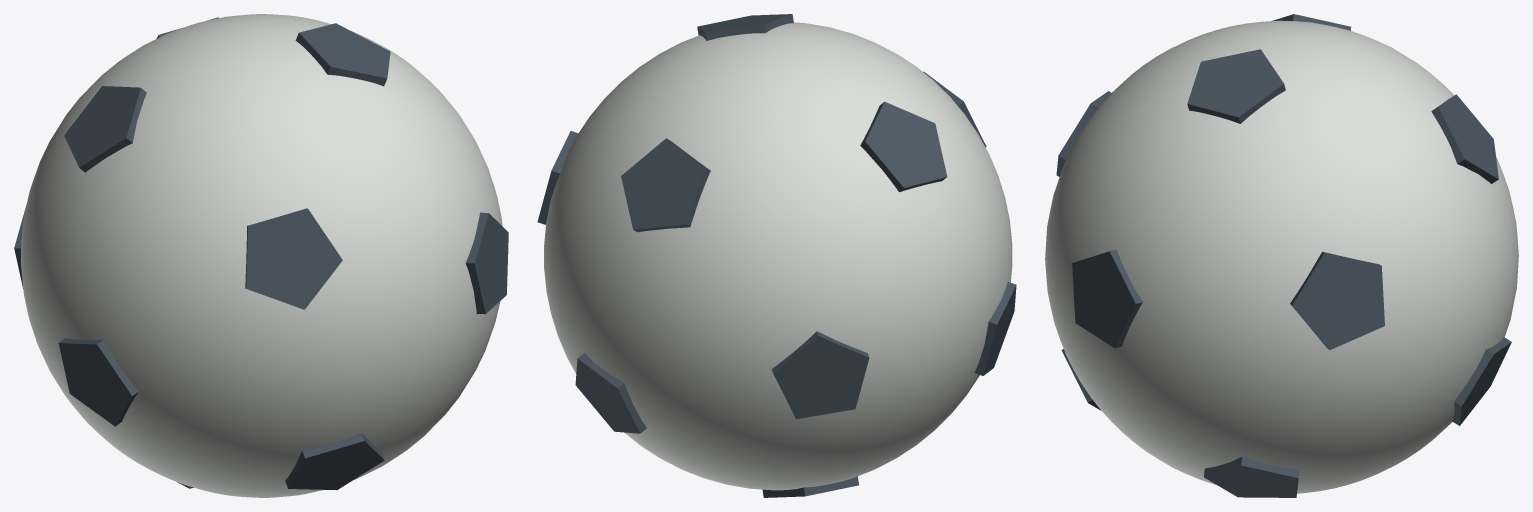
Rendered from ball.glb.
3 renders of one model, left to right at view 1: azimuth 30°, elevation 25°; view 2: azimuth 150°, elevation 25°; view 3: azimuth 270°, elevation 25°, orthographic. The views are drawn at different scales.
Parts seen in each view (by area): view 1: titan.ball.leather, titan.ball.panel.7, titan.ball.panel.8, titan.ball.panel.3, titan.ball.panel.11, titan.ball.panel.2, titan.ball.panel.6; view 2: titan.ball.leather, titan.ball.panel.4, titan.ball.panel.9, titan.ball.panel.8, titan.ball.panel.5, titan.ball.panel.3, titan.ball.panel.11, titan.ball.panel.10, titan.ball.panel.0; view 3: titan.ball.leather, titan.ball.panel.10, titan.ball.panel.11, titan.ball.panel.6, titan.ball.panel.9, titan.ball.panel.1, titan.ball.panel.5, titan.ball.panel.7.
Boxes of the visible parts, x1,y1,x2,y2 form: titan.ball.leather: (21, 14, 502, 497); titan.ball.panel.7: (245, 208, 342, 309); titan.ball.panel.8: (64, 86, 146, 172); titan.ball.panel.3: (58, 338, 138, 426); titan.ball.panel.11: (295, 23, 390, 86); titan.ball.panel.2: (285, 432, 384, 489); titan.ball.panel.6: (465, 212, 508, 314); titan.ball.leather: (544, 22, 1012, 490); titan.ball.panel.4: (771, 331, 869, 419); titan.ball.panel.9: (621, 138, 710, 232); titan.ball.panel.8: (860, 101, 947, 192); titan.ball.panel.5: (575, 353, 646, 433); titan.ball.panel.3: (974, 282, 1016, 375); titan.ball.panel.11: (697, 14, 793, 40); titan.ball.panel.10: (537, 131, 578, 224); titan.ball.panel.0: (762, 476, 858, 497); titan.ball.leather: (1045, 20, 1518, 493); titan.ball.panel.10: (1290, 251, 1384, 350); titan.ball.panel.11: (1187, 49, 1285, 123); titan.ball.panel.6: (1072, 249, 1142, 348); titan.ball.panel.9: (1431, 94, 1498, 183); titan.ball.panel.1: (1204, 456, 1299, 497); titan.ball.panel.5: (1452, 337, 1511, 425); titan.ball.panel.7: (1056, 91, 1111, 176).
Size of the model in its own units: 1.02 by 1.03 by 1.
